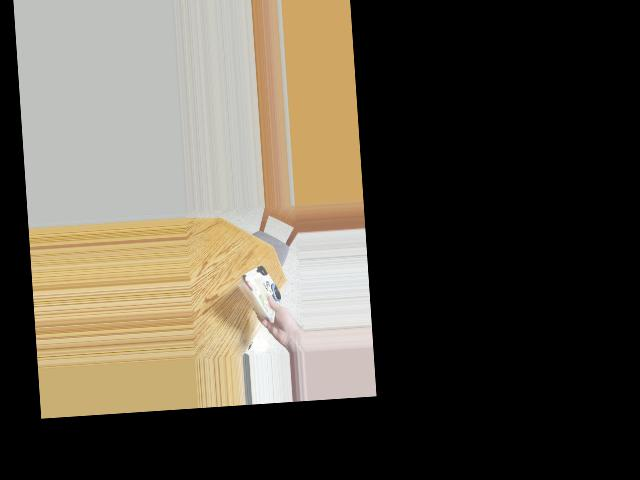cheese: (232, 266, 289, 315)
